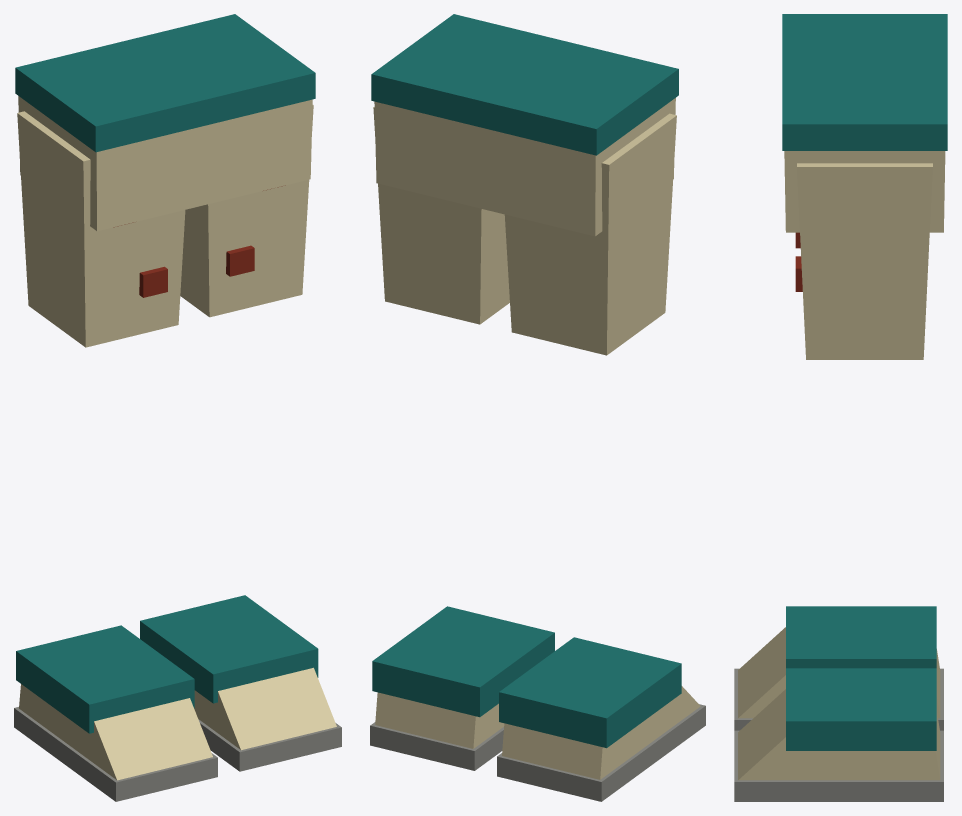
The model's file is gear_body_lucky_boxers.glb.
3 views of the same model, side by side, from view 1: azimuth 30°, elevation 25°; view 2: azimuth 150°, elevation 25°; view 3: azimuth 270°, elevation 25° (orthographic). The views are drawn at different scales.
Visible parts, largest first — view 1: torso, leg_r_lower, leg_r, leg_l_lower, leg_l; view 2: torso, leg_r, leg_r_lower, leg_l_lower, leg_l; view 3: torso, leg_l_lower, leg_l, leg_r_lower.
Part boxes in pixels (x1=…): torso: x1=15, y1=14, x2=315, y2=231; leg_r_lower: x1=14, y1=625, x2=217, y2=801; leg_r: x1=17, y1=111, x2=185, y2=347; leg_l_lower: x1=140, y1=595, x2=341, y2=771; leg_l: x1=180, y1=105, x2=313, y2=317; torso: x1=371, y1=14, x2=678, y2=236; leg_r: x1=504, y1=113, x2=676, y2=355; leg_r_lower: x1=497, y1=637, x2=705, y2=801; leg_l_lower: x1=370, y1=606, x2=554, y2=770; leg_l: x1=373, y1=107, x2=509, y2=324; torso: x1=782, y1=14, x2=947, y2=232; leg_l_lower: x1=734, y1=668, x2=943, y2=801; leg_l: x1=795, y1=163, x2=932, y2=359; leg_r_lower: x1=734, y1=606, x2=943, y2=730.
Bounding box in the file's own units: 0.372 × 1.01 × 0.29.
